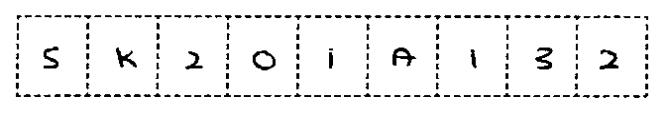0: (246, 45, 282, 77)
1: (455, 40, 493, 77), (312, 39, 347, 77)
2: (592, 45, 626, 76), (180, 44, 209, 79)
3: (523, 40, 567, 78)
A: (386, 40, 420, 76)
K: (106, 41, 145, 72)
S: (37, 40, 64, 75)
